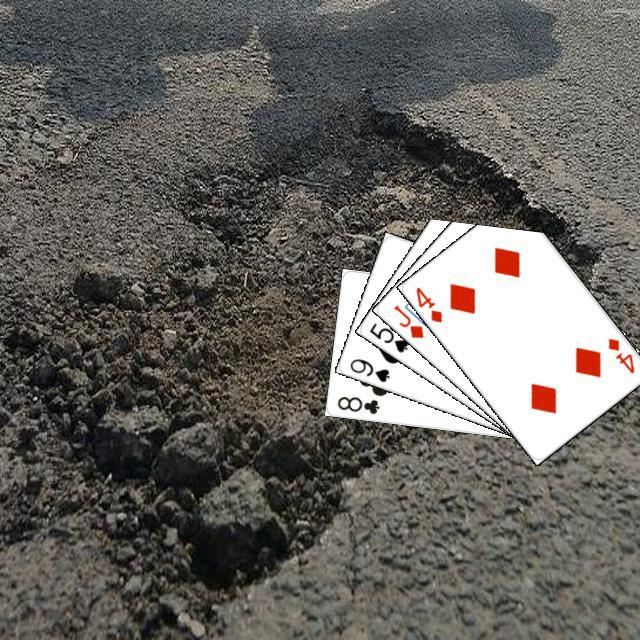4d: (411, 282, 444, 324), (603, 333, 636, 375)
5s: (364, 318, 410, 354)
8c: (332, 391, 381, 416)
9s: (345, 354, 391, 384)
Jd: (389, 300, 426, 340)
